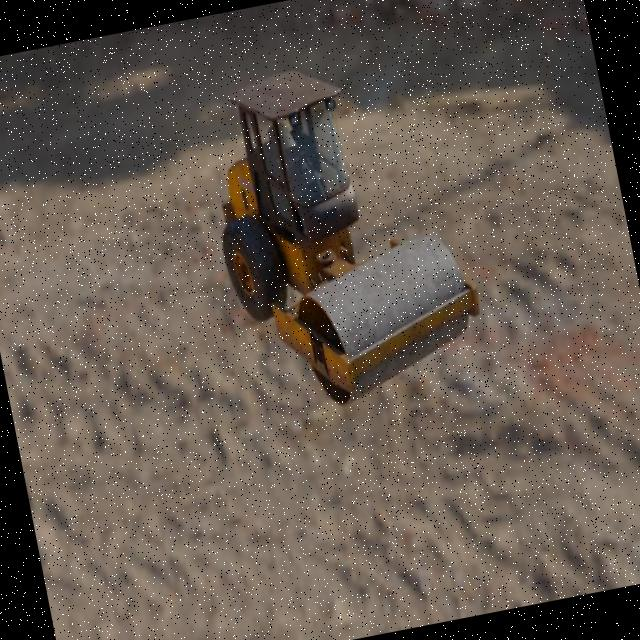Roller: (190, 43, 494, 424)
